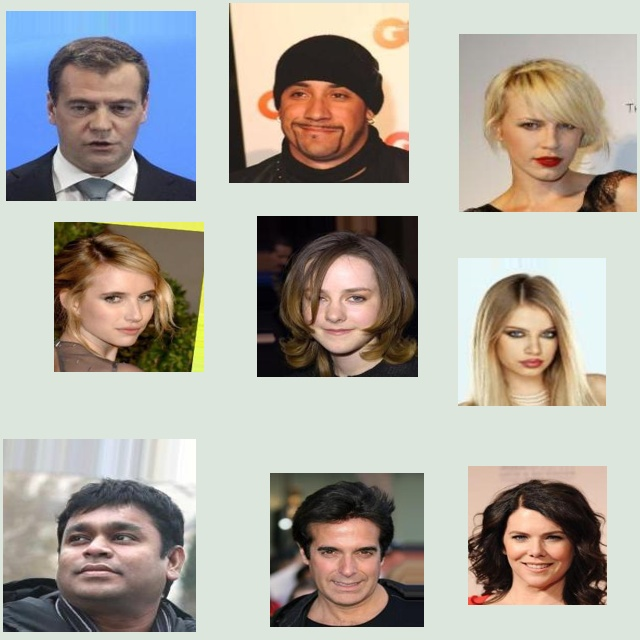celeb_10002: (458, 258, 606, 406)
celeb_2336: (270, 473, 424, 627)
celeb_2619: (6, 11, 196, 201)
celeb_2970: (54, 222, 204, 372)
celeb_3: (229, 3, 409, 183)
celeb_4422: (257, 216, 418, 377)
celeb_5695: (468, 466, 607, 605)
celeb_7: (3, 439, 196, 632)
celeb_797: (459, 34, 637, 212)
